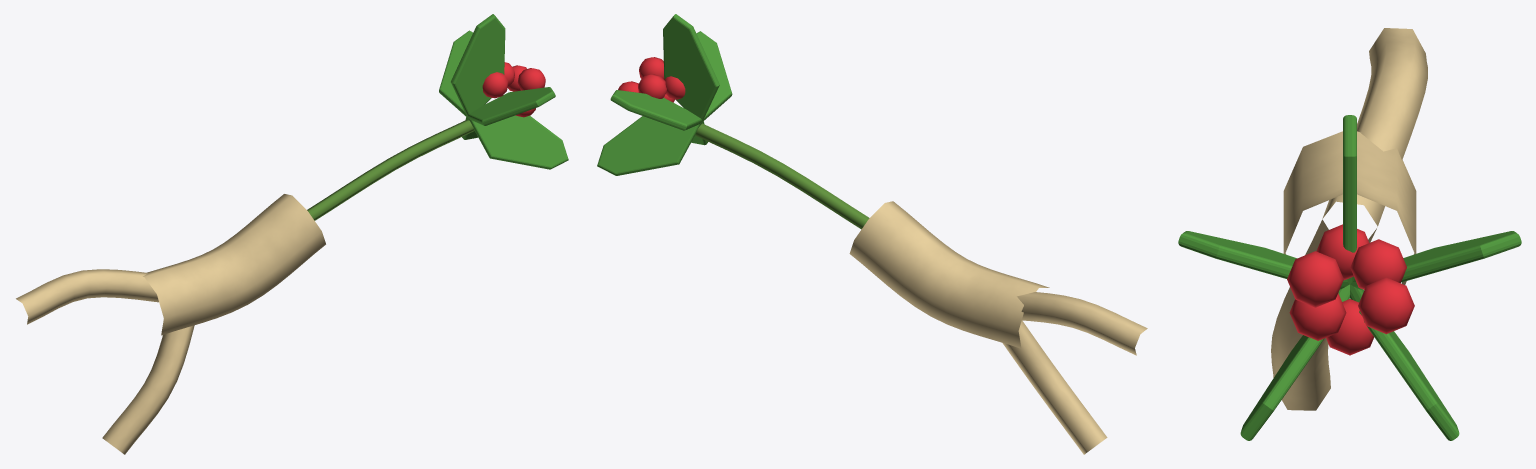
The model's file is ginseng.glb.
3 renders of one model, left to right at view 1: azimuth 30°, elevation 25°; view 2: azimuth 150°, elevation 25°; view 3: azimuth 270°, elevation 25°, orthographic. The views are drawn at different scales.
Parts seen in each view (by area): view 1: ginseng; view 2: ginseng; view 3: ginseng.
Boxes of the visible parts, left/top/right/bottom form: ginseng: left=16, top=14, right=568, bottom=454; ginseng: left=597, top=14, right=1147, bottom=454; ginseng: left=1178, top=28, right=1521, bottom=440.
Bounding box in the file's own units: 0.2487 × 0.1559 × 0.0723.
Materials: 4 (1 with a texture image).
